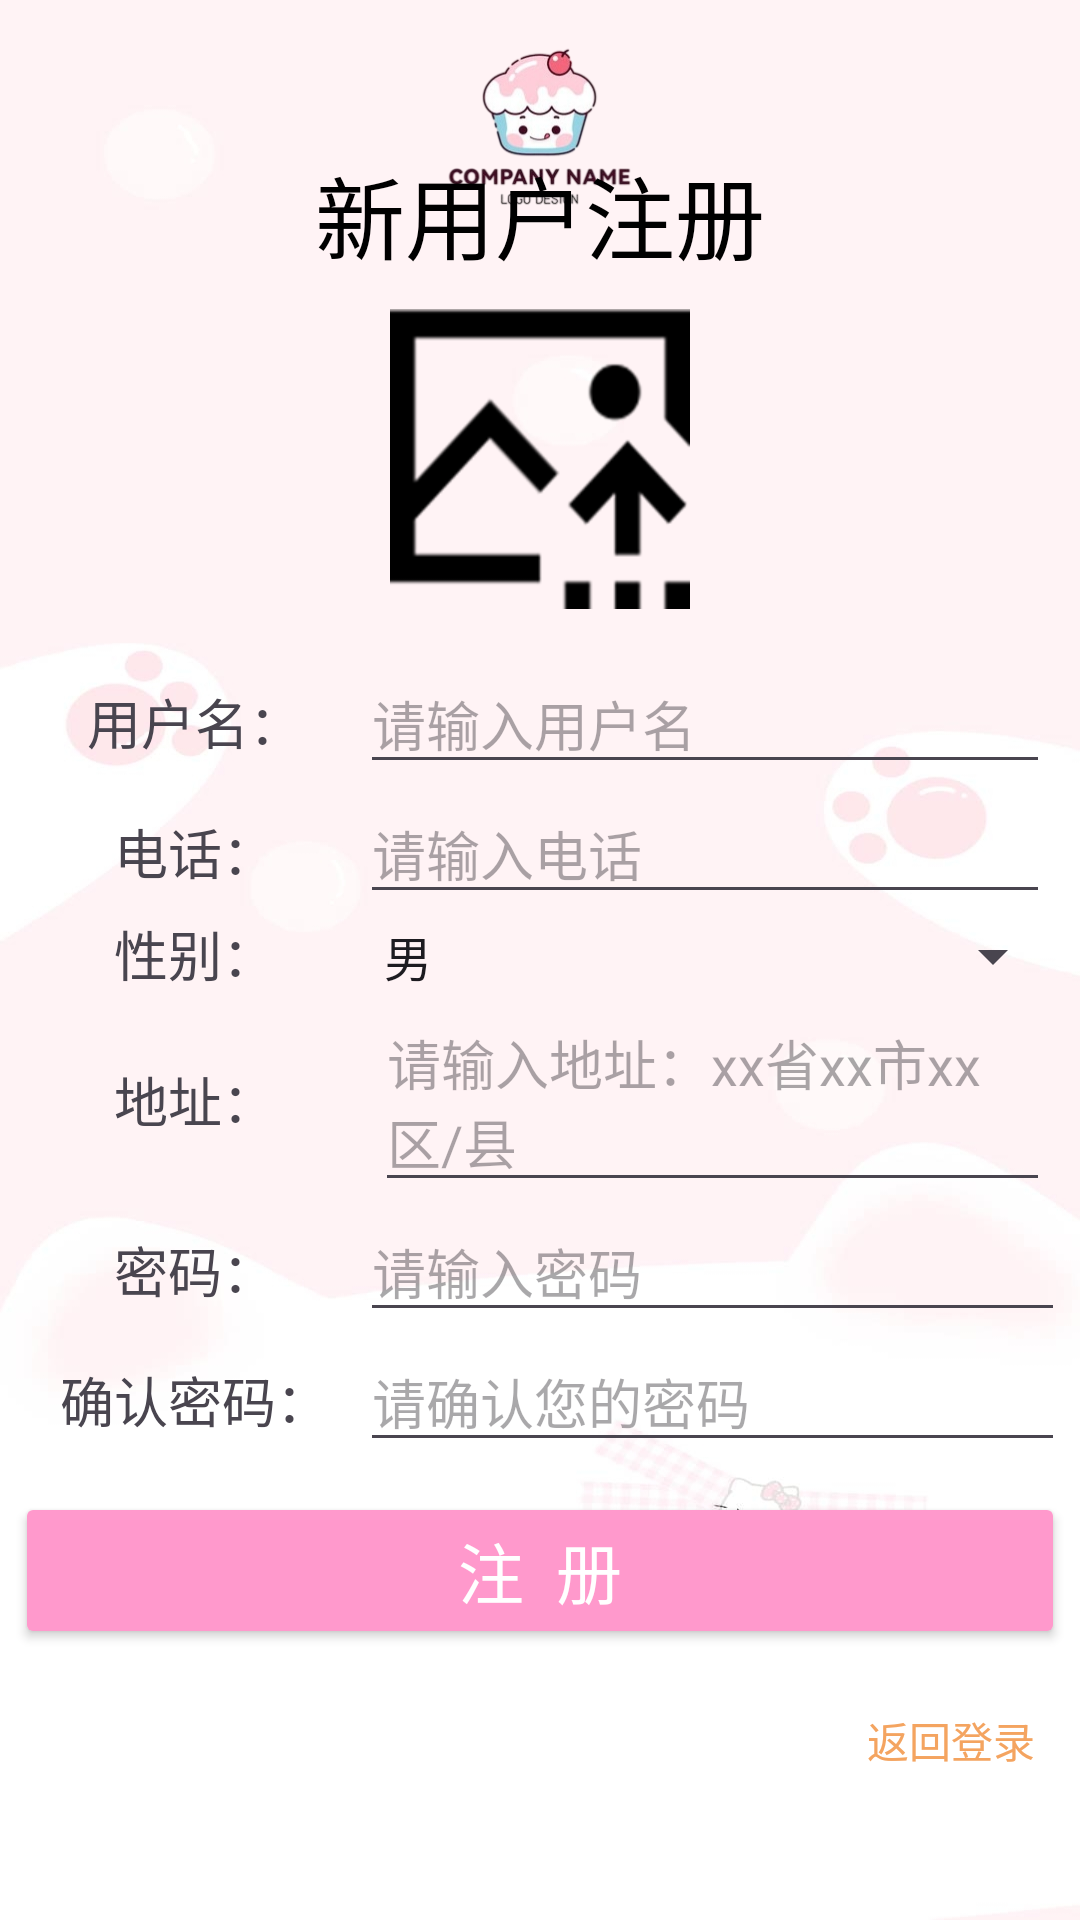

Locate icon controls on the screen. Image size 1080 x 1920, boxes as (x1, y1, x2, y2).
emptyimage: (390, 309, 690, 609)
